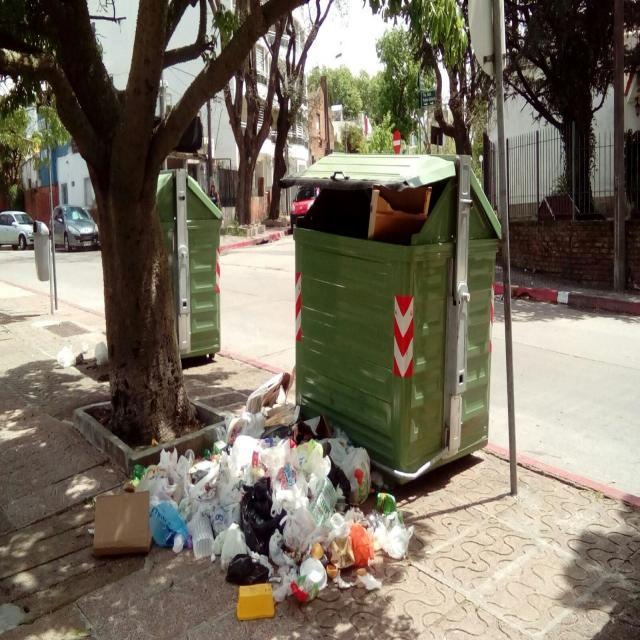garbage: (95, 403, 412, 592), (364, 180, 431, 250), (56, 338, 114, 368), (248, 383, 298, 414)
